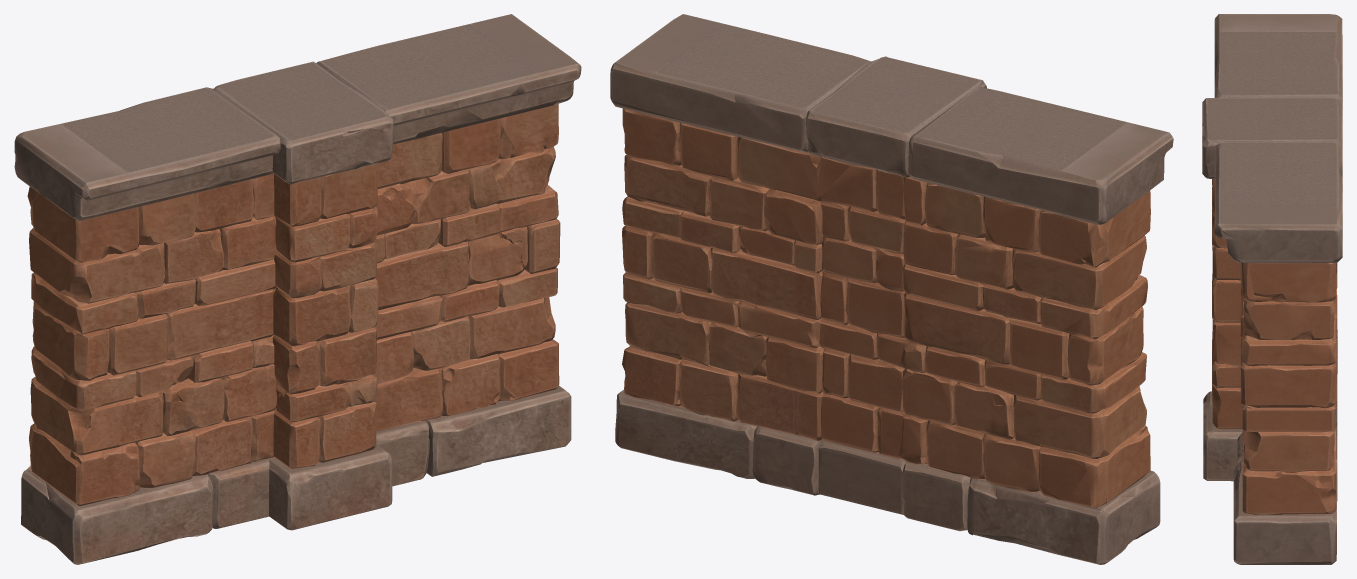
File: wall_plain.glb
3 renders of one model, left to right at view 1: azimuth 30°, elevation 25°; view 2: azimuth 150°, elevation 25°; view 3: azimuth 270°, elevation 25°, orthographic. The views are drawn at different scales.
Bounding box in the file's own units: 1.9 × 1.42 × 0.5287.
Materials: 1 (1 with a texture image).
